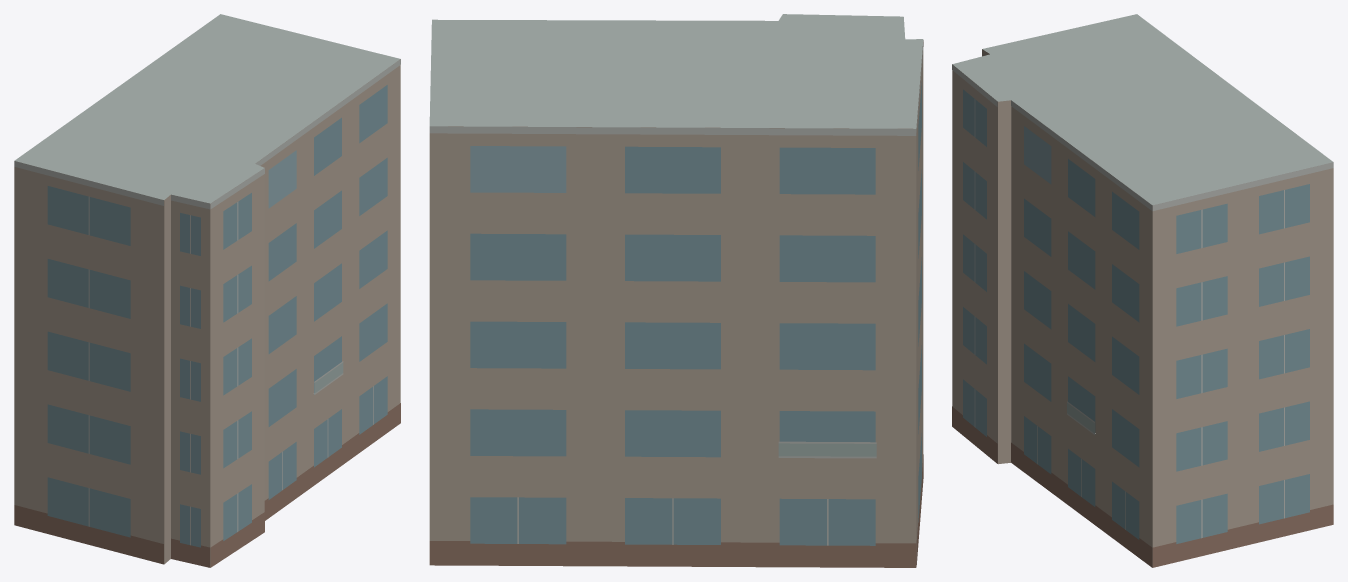
File: survey-upis-32694480.glb
The picture shows the model from 3 angles, left to right: view 1: azimuth 30°, elevation 25°; view 2: azimuth 150°, elevation 25°; view 3: azimuth 270°, elevation 25°; orthographic projection. The views are drawn at different scales.
Parts seen in each view (by area): view 1: survey-upis-32694480.tmp; view 2: survey-upis-32694480.tmp; view 3: survey-upis-32694480.tmp.
Part boxes in pixels (x1,y1,x2,y2): survey-upis-32694480.tmp: (14, 14, 400, 567); survey-upis-32694480.tmp: (429, 14, 923, 567); survey-upis-32694480.tmp: (952, 14, 1333, 567).
Size of the model in its own units: 17.05 by 15.05 by 14.36.
